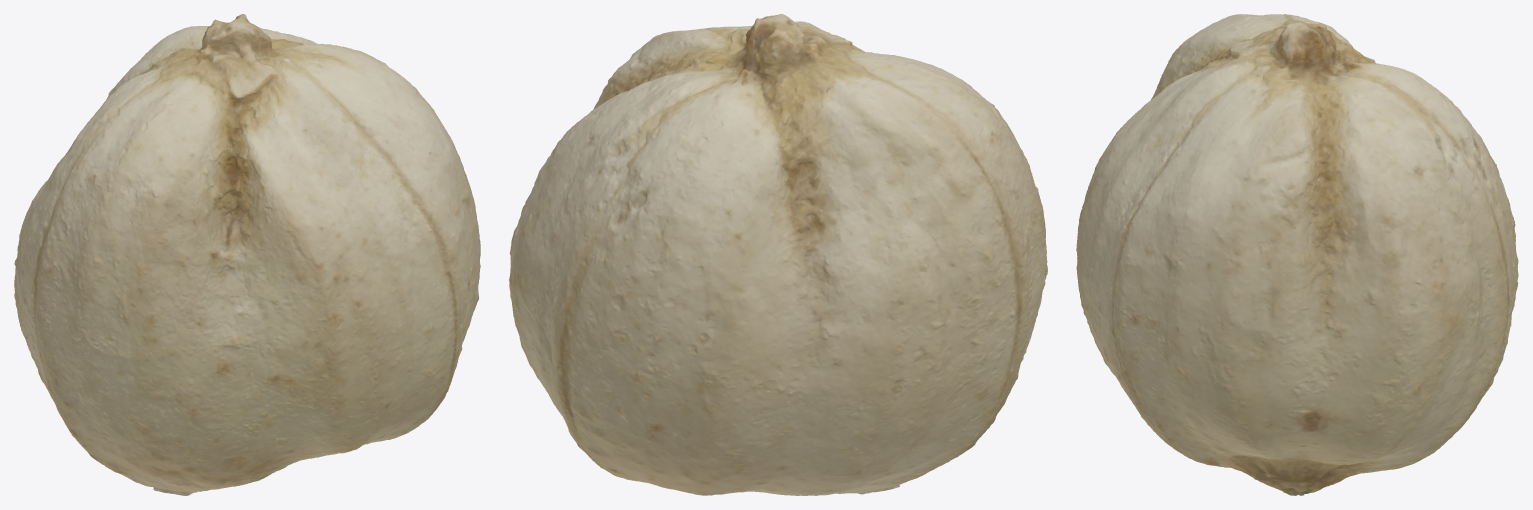
File: white-cardamom-real-scan.glb
3 renders of one model, left to right at view 1: azimuth 30°, elevation 25°; view 2: azimuth 150°, elevation 25°; view 3: azimuth 270°, elevation 25°, orthographic. The views are drawn at different scales.
Visible parts, largest first — view 1: Object_7, Object_6, Object_8, Object_4, Object_5; view 2: Object_6, Object_4, Object_5, Object_7, Object_8; view 3: Object_5, Object_4, Object_8, Object_6, Object_7.
Boxes of the visible parts, <box> form: Object_7: <box>28,27,446,493</box>; Object_6: <box>14,19,459,466</box>; Object_8: <box>161,23,480,462</box>; Object_4: <box>74,26,480,495</box>; Object_5: <box>15,14,479,453</box>; Object_6: <box>618,23,1047,495</box>; Object_4: <box>509,31,989,494</box>; Object_5: <box>509,14,1027,495</box>; Object_7: <box>743,20,1047,491</box>; Object_8: <box>596,15,983,470</box>; Object_5: <box>1094,19,1518,485</box>; Object_4: <box>1080,67,1518,495</box>; Object_8: <box>1077,19,1297,493</box>; Object_6: <box>1103,14,1422,493</box>; Object_7: <box>1076,14,1295,437</box>.
Bounding box in the file's own units: 21.75 × 22.12 × 20.44.
